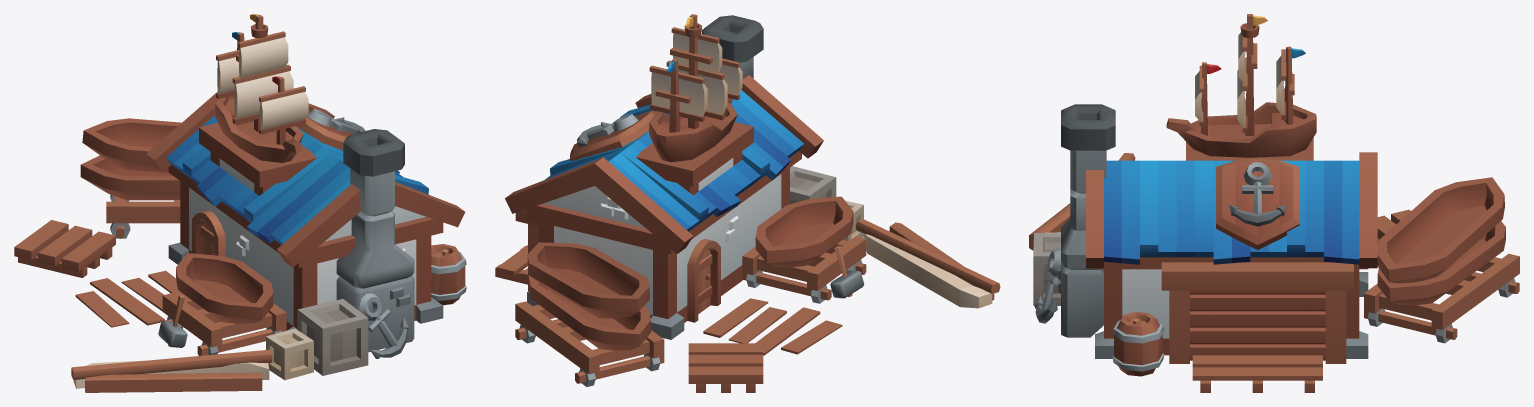
The model's file is seaport.glb.
3 renders of one model, left to right at view 1: azimuth 30°, elevation 25°; view 2: azimuth 150°, elevation 25°; view 3: azimuth 270°, elevation 25°, orthographic. The views are drawn at different scales.
Visible parts, largest first — view 1: building_shipyard_blue; view 2: building_shipyard_blue; view 3: building_shipyard_blue.
Boxes of the visible parts, left/top/right/bottom form: building_shipyard_blue: left=14, top=14, right=466, bottom=392; building_shipyard_blue: left=495, top=14, right=1000, bottom=392; building_shipyard_blue: left=1029, top=14, right=1519, bottom=392.
Size of the model in its own units: 1.92 by 1.24 by 1.88.
Materials: 1 (1 with a texture image).
